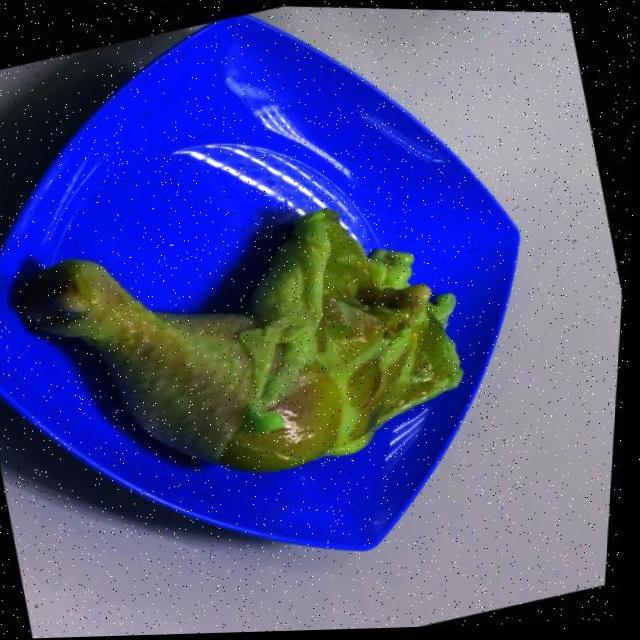quater: (35, 222, 472, 484)
